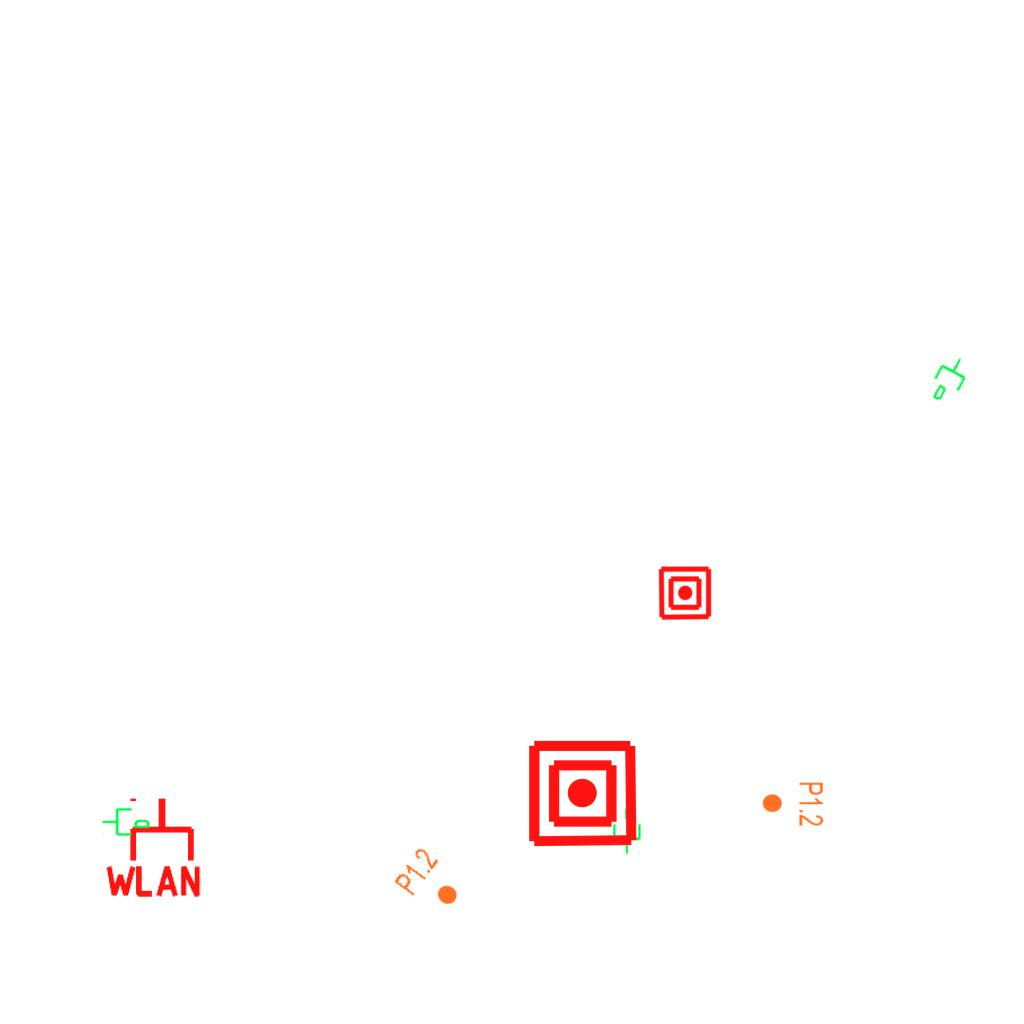Datenanschluss_einfach: (923, 349, 977, 411), (609, 805, 643, 855), (101, 804, 151, 838)
Downlight_LED_Einbauleuchten_Flur: (391, 844, 471, 920), (761, 781, 825, 827)
NAM-Nichtautomatischer_Melder: (526, 737, 639, 850), (657, 565, 713, 621)
WLAN: (101, 794, 205, 899)
